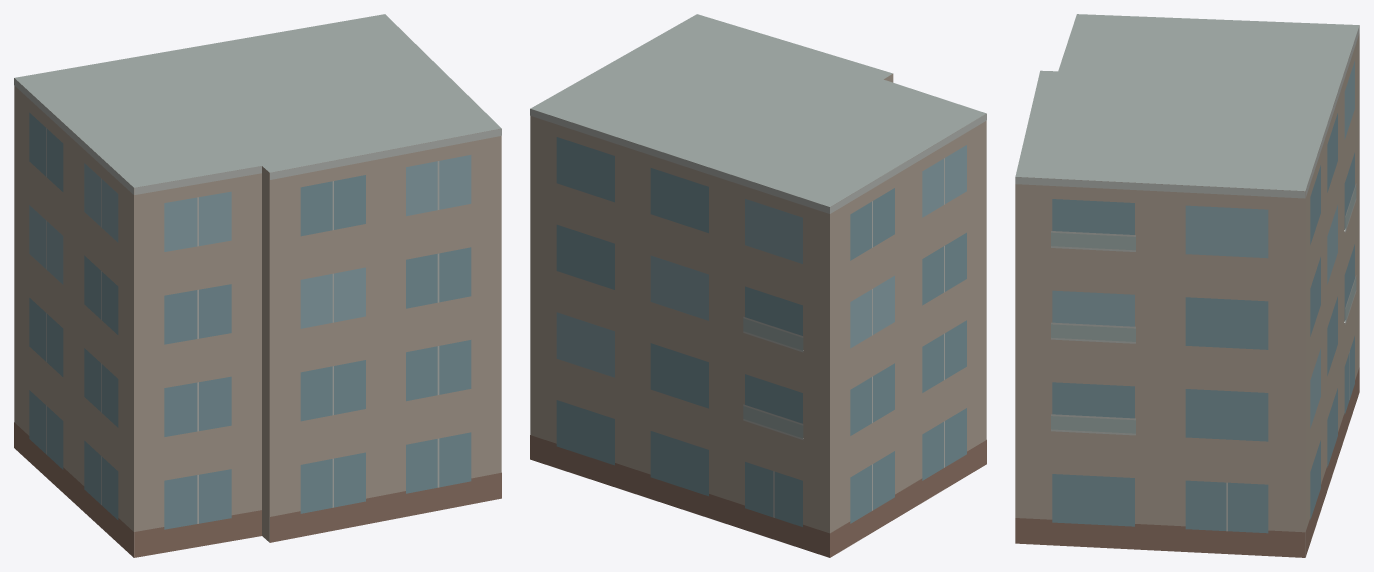
The model's file is survey-upis-32520371.glb.
3 renders of one model, left to right at view 1: azimuth 30°, elevation 25°; view 2: azimuth 150°, elevation 25°; view 3: azimuth 270°, elevation 25°, orthographic. The views are drawn at different scales.
Visible parts, largest first — view 1: survey-upis-32520371.tmp; view 2: survey-upis-32520371.tmp; view 3: survey-upis-32520371.tmp.
Part boxes in pixels (<box>): survey-upis-32520371.tmp: <box>14,14,501,557</box>; survey-upis-32520371.tmp: <box>530,14,986,557</box>; survey-upis-32520371.tmp: <box>1015,14,1359,557</box>.
Size of the model in its own units: 12.65 by 12.2 by 10.39.
